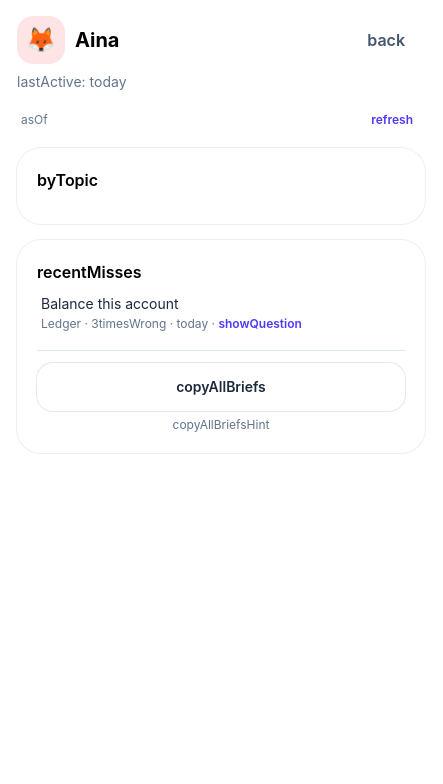
Test: the teacher note › loads an existing note for the misses on screen
Click the text "Balance this account": (110, 304) [41,295,179,312]
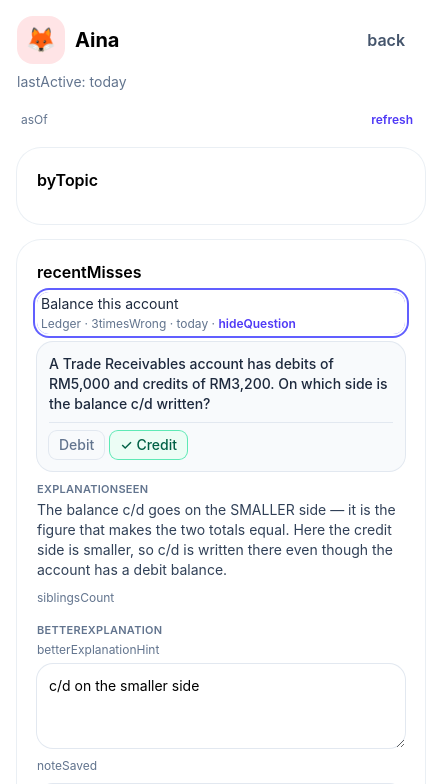
Result: the text box labelled "betterExplanation" holds "c/d on the smaller side" at [37,664,405,748]
